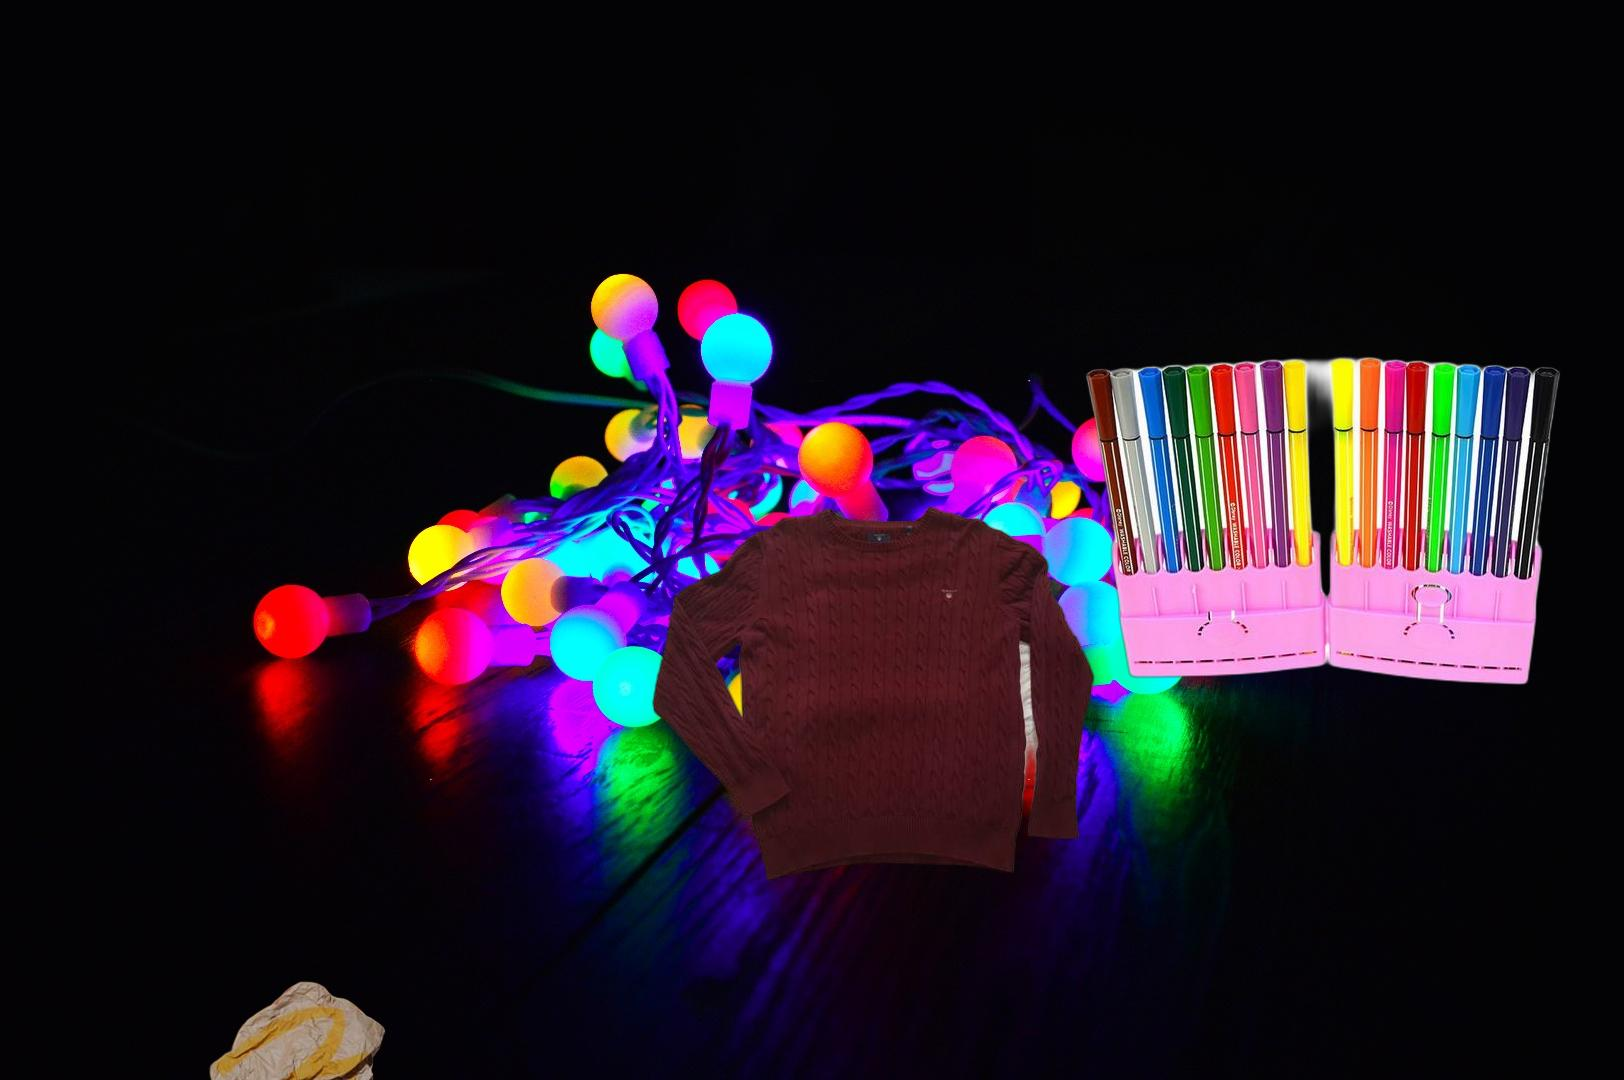clothes: (649, 503, 1099, 884)
glass: (1085, 1075, 1370, 1080)
paper-bag: (206, 978, 389, 1080)
penholder: (1081, 352, 1565, 689)
trashbox-cardboard: (430, 380, 1030, 780)
